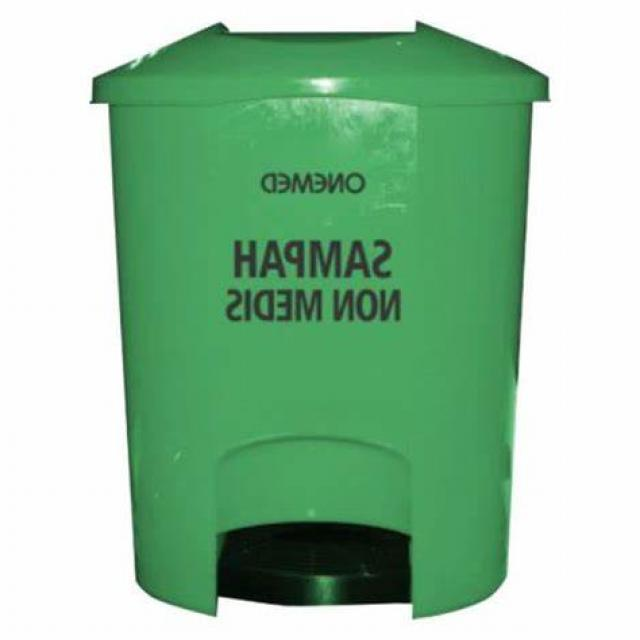garbage container: (76, 13, 552, 631)
